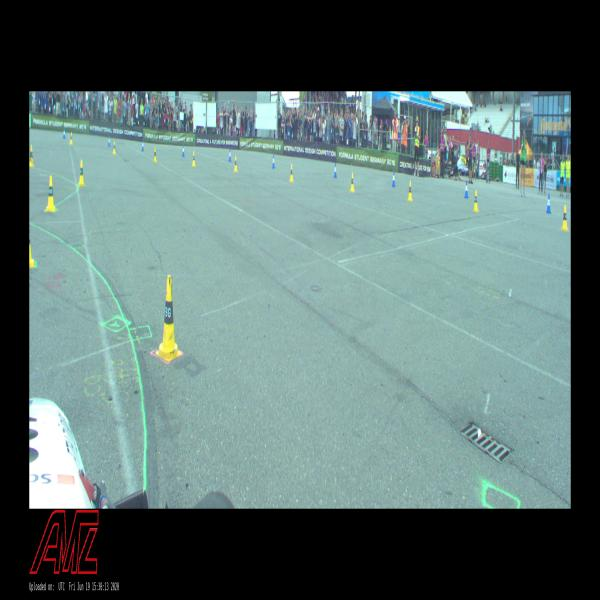blue_cone: (546, 194, 551, 213), (464, 180, 468, 198), (392, 171, 395, 186), (334, 163, 337, 177), (272, 155, 275, 168), (182, 145, 185, 156), (229, 149, 231, 161), (142, 140, 144, 151), (108, 136, 110, 147), (64, 129, 66, 138)
yellow_cone: (156, 275, 181, 360), (47, 176, 56, 211), (29, 217, 34, 267), (78, 160, 85, 186), (562, 205, 568, 231), (350, 173, 355, 191), (30, 144, 34, 166), (474, 190, 478, 211), (408, 181, 412, 201), (290, 164, 294, 181), (192, 152, 196, 167), (234, 156, 238, 171), (112, 141, 116, 153), (154, 147, 157, 161), (70, 132, 72, 144)
